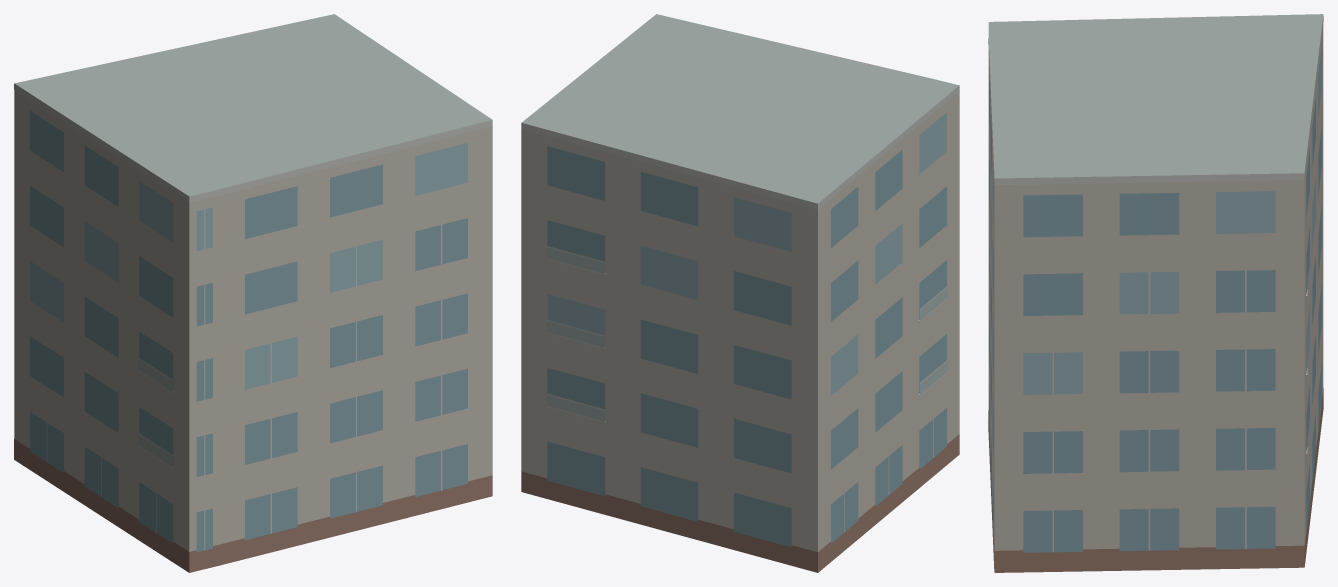
Rendered from survey-upis-32495583.glb.
3 views of the same model, side by side, from view 1: azimuth 30°, elevation 25°; view 2: azimuth 150°, elevation 25°; view 3: azimuth 270°, elevation 25° (orthographic). The views are drawn at different scales.
Parts seen in each view (by area): view 1: survey-upis-32495583.tmp; view 2: survey-upis-32495583.tmp; view 3: survey-upis-32495583.tmp.
Boxes of the visible parts, x1,y1,x2,y2 form: survey-upis-32495583.tmp: [14, 14, 492, 572]; survey-upis-32495583.tmp: [521, 14, 959, 572]; survey-upis-32495583.tmp: [988, 14, 1323, 572].
Size of the model in its own units: 12.8 by 14.3 by 11.02.
